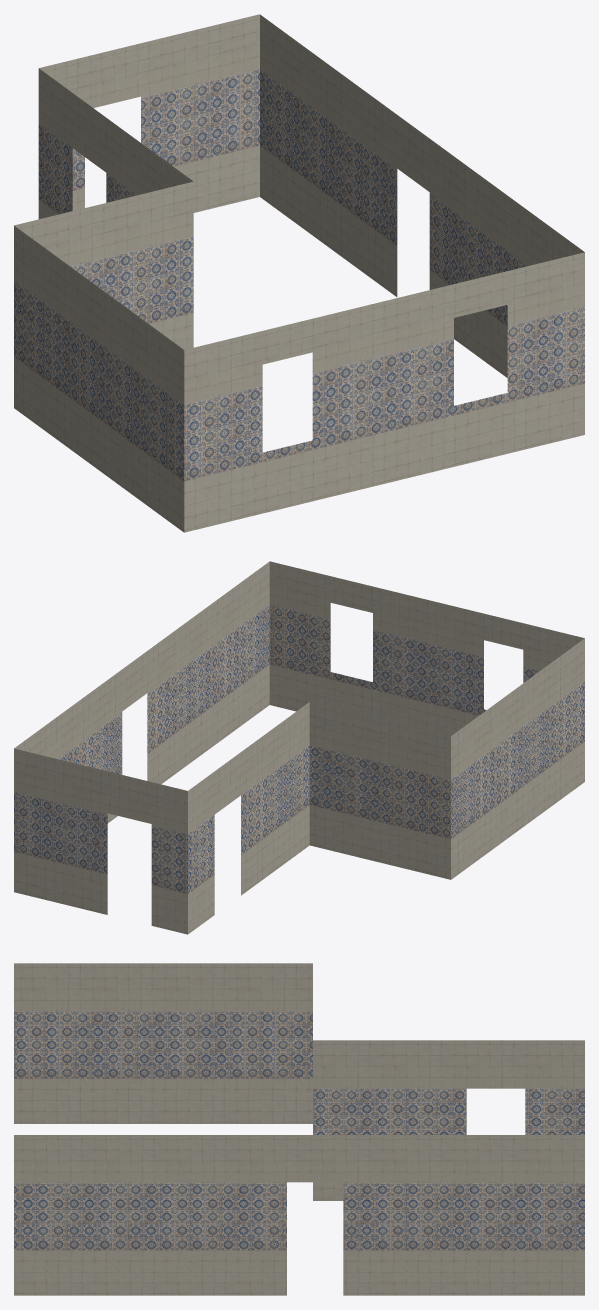
The model's file is kitchen_walls.fbx.
The picture shows the model from 3 angles, top to bottom: view 1: azimuth 30°, elevation 25°; view 2: azimuth 150°, elevation 25°; view 3: azimuth 270°, elevation 25°; orthographic projection. The views are drawn at different scales.
Visible parts, largest first — view 1: pCube18; view 2: pCube18; view 3: pCube18.
Boxes of the visible parts, x1,y1,x2,y2 form: pCube18: (14,14,584,532); pCube18: (14,561,584,934); pCube18: (14,963,584,1295).
Bounding box in the file's own units: 732 × 319 × 1029.
